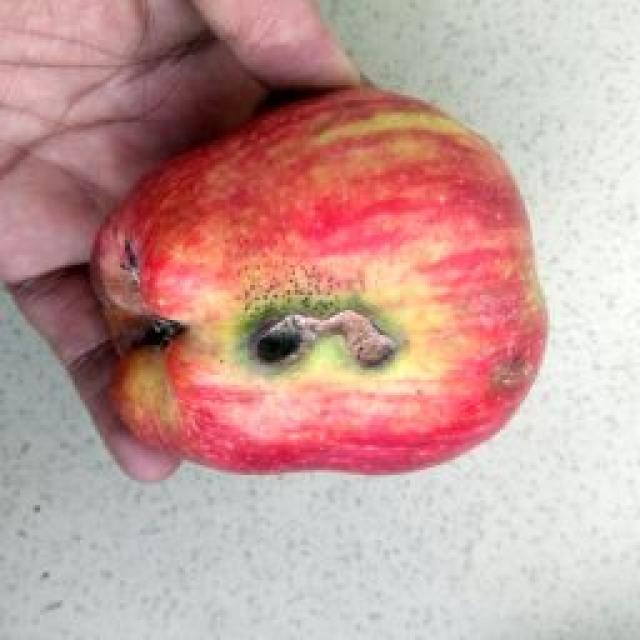Bad_Apple: (91, 89, 546, 472)
